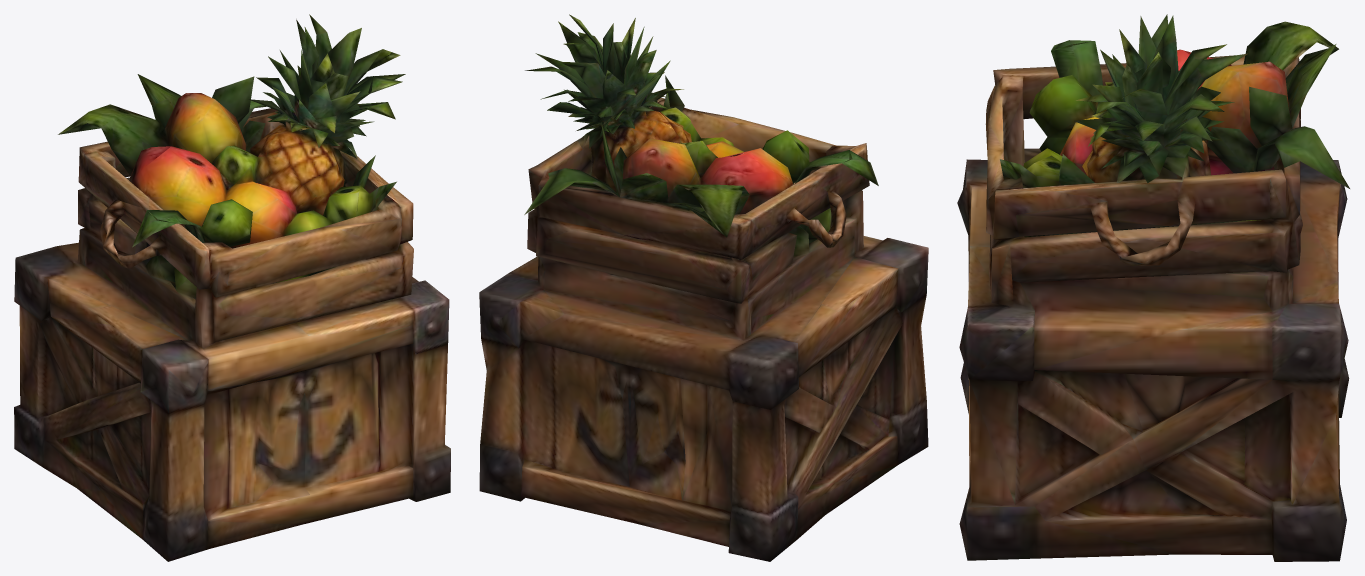
Rendered from prop-crate-stack-v2-desktop.glb.
3 renders of one model, left to right at view 1: azimuth 30°, elevation 25°; view 2: azimuth 150°, elevation 25°; view 3: azimuth 270°, elevation 25°, orthographic. The views are drawn at different scales.
Visible parts, largest first — view 1: tripo_node_3b2c5121-bd56-4c23-9fe7-09df3a0e1711; view 2: tripo_node_3b2c5121-bd56-4c23-9fe7-09df3a0e1711; view 3: tripo_node_3b2c5121-bd56-4c23-9fe7-09df3a0e1711.
Boxes of the visible parts, box(x1,y1,x2,y2) form: tripo_node_3b2c5121-bd56-4c23-9fe7-09df3a0e1711: box(14, 14, 450, 561); tripo_node_3b2c5121-bd56-4c23-9fe7-09df3a0e1711: box(479, 14, 928, 561); tripo_node_3b2c5121-bd56-4c23-9fe7-09df3a0e1711: box(957, 14, 1349, 561).
Size of the model in its own units: 0.767 by 0.9731 by 0.6799.
1 material, 1 textured.
